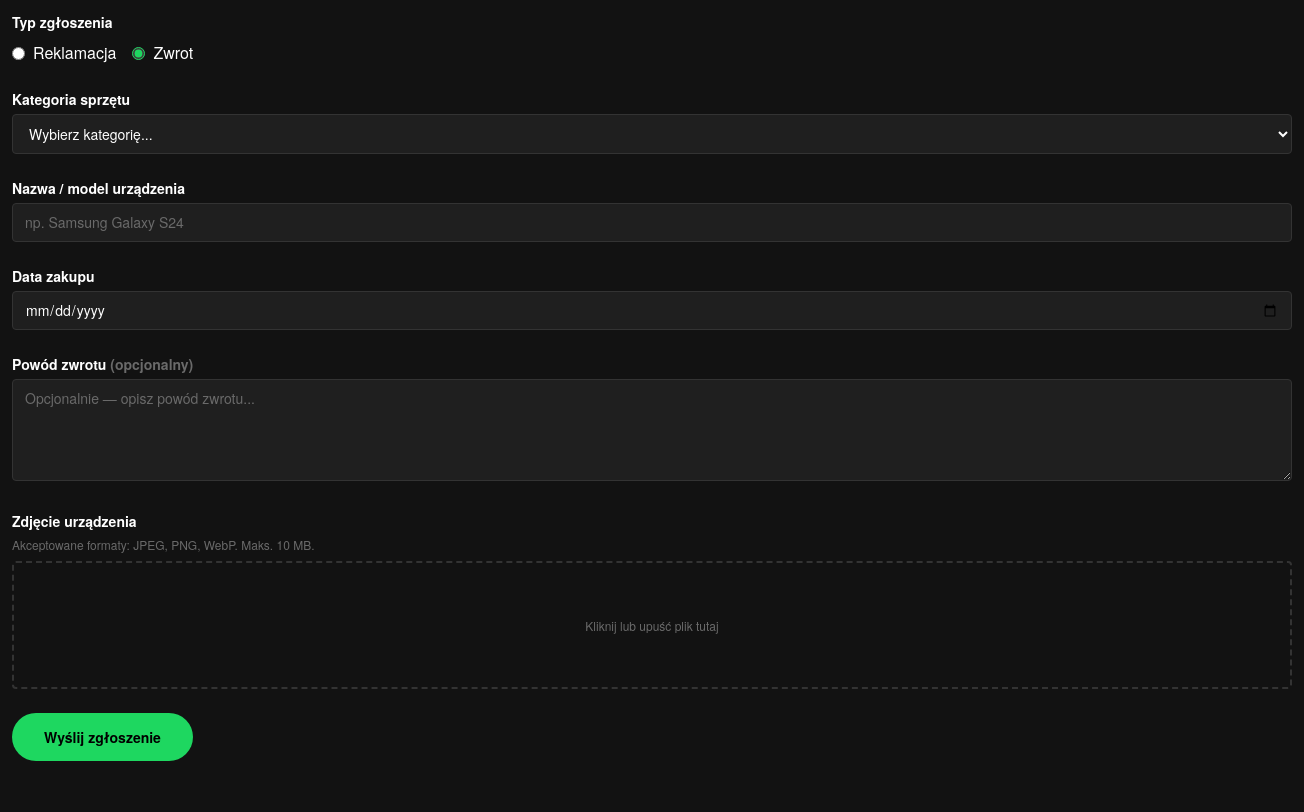
Test: IntakeForm — pole powodu (TAC-001-01, AC-05) › przełączenie z Reklamacja na Zwrot usuwa wymagalność powodu
# Start with Reklamacja
Step 1. Click the radio button labelled "Reklamacja" → coordinates (18, 53), box [12, 46, 25, 60]
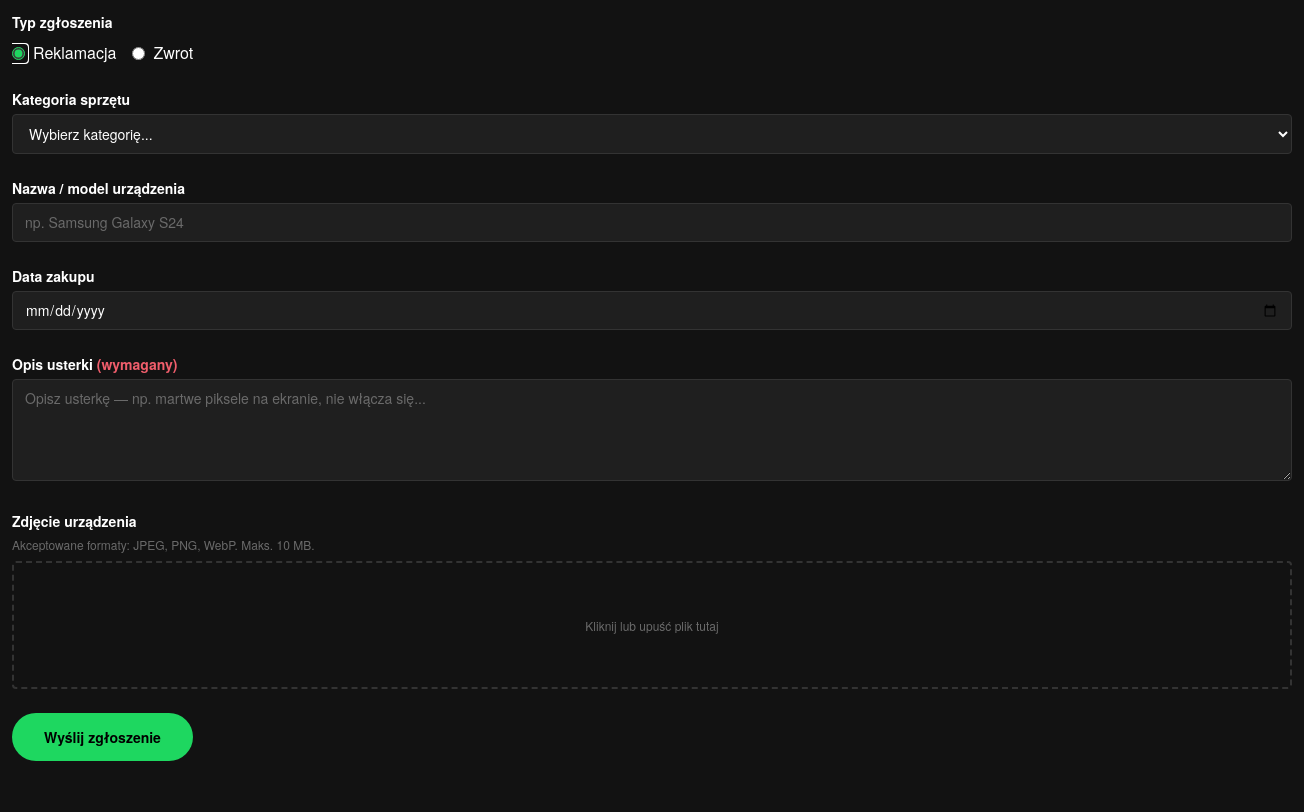
Now the text "Opis usterki (wymagany)" is shown, box [12, 354, 178, 374]
# Switch to Zwrot
Step 2. Click the radio button labelled "Zwrot" → coordinates (139, 53), box [132, 46, 145, 60]
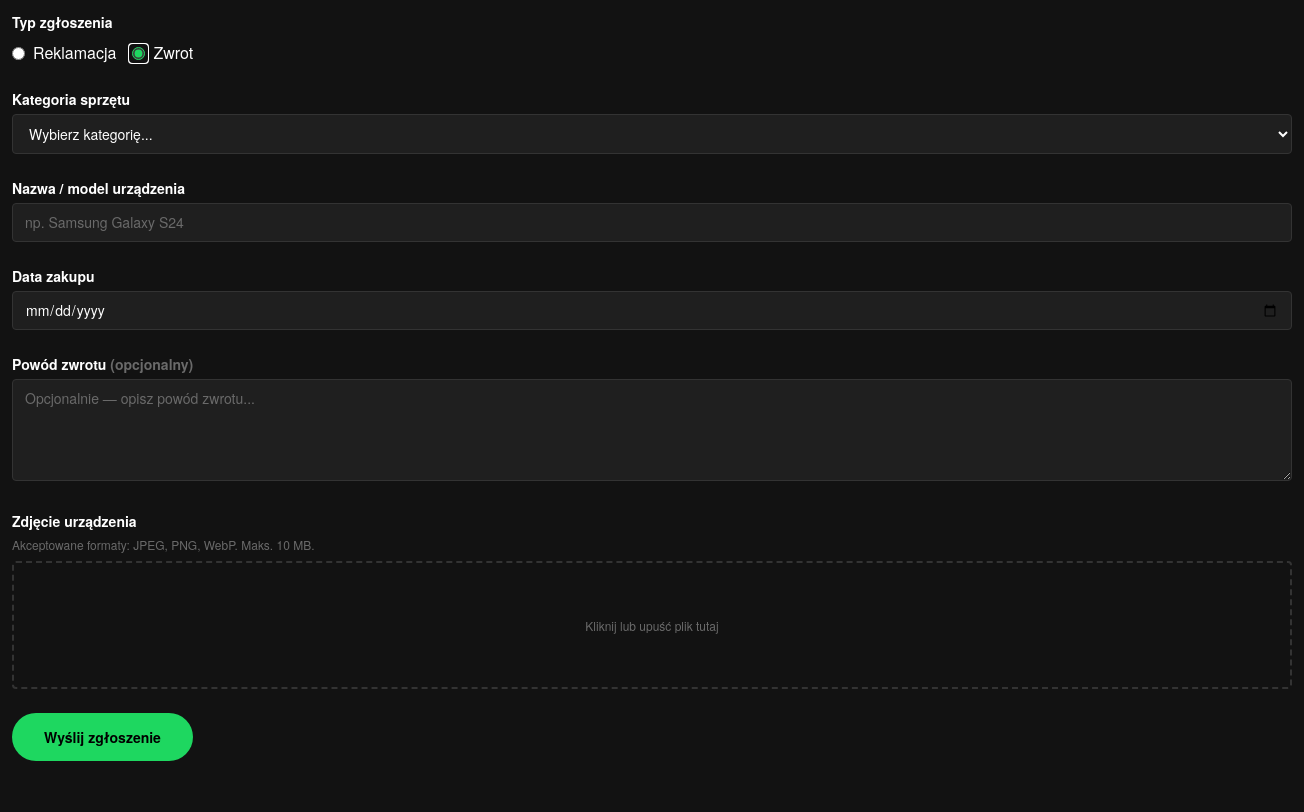
Now the text "Powód zwrotu (opcjonalny)" is shown, box [12, 354, 193, 374]
